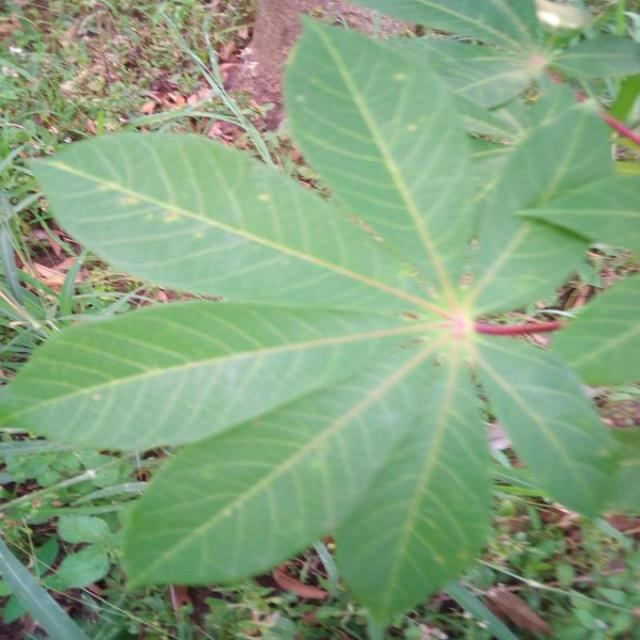cassava leaf: (1, 7, 638, 634)
